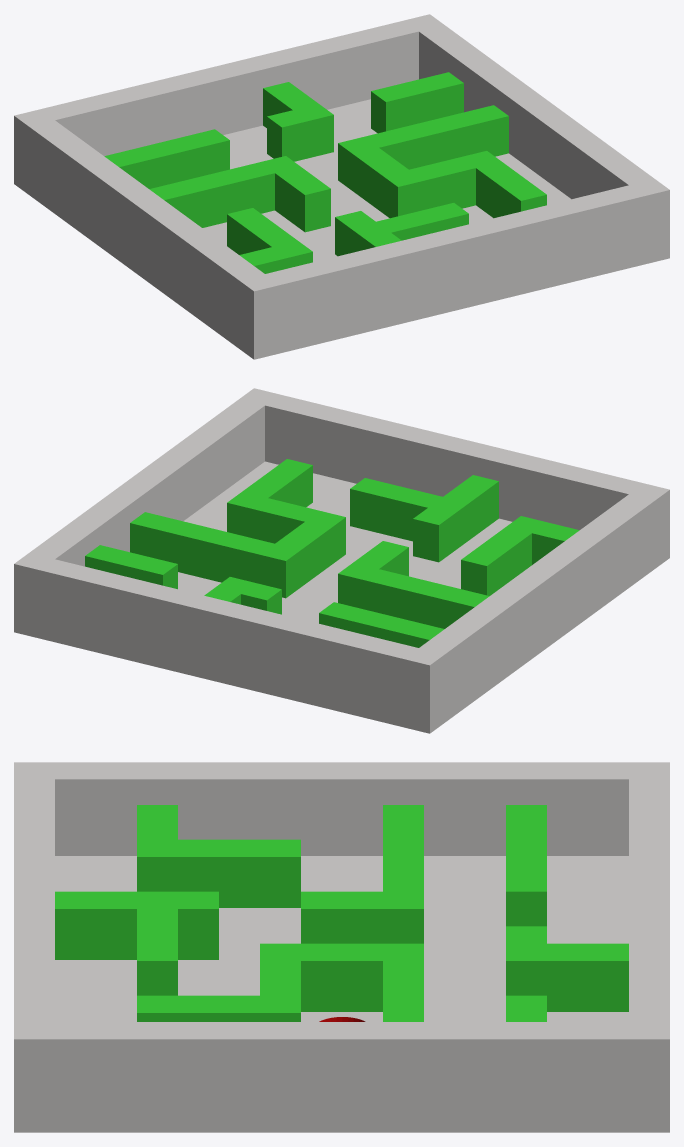
Rendered from maze3.fbx.
The picture shows the model from 3 angles, top to bottom: view 1: azimuth 30°, elevation 25°; view 2: azimuth 150°, elevation 25°; view 3: azimuth 270°, elevation 25°; orthographic projection. The views are drawn at different scales.
Visible parts, largest first — view 1: Cube; view 2: Cube; view 3: Cube.
Part boxes in pixels (x1=…): Cube: x1=14, y1=14, x2=669, y2=359; Cube: x1=14, y1=388, x2=669, y2=733; Cube: x1=14, y1=762, x2=669, y2=1132.
Size of the model in its own units: 1400 by 220 by 1400.
